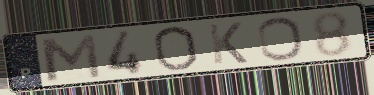4: (104, 29, 145, 77)
8: (309, 9, 355, 58)
K: (205, 20, 250, 66)
M: (36, 31, 104, 83)
O: (151, 24, 201, 73), (255, 15, 307, 62)
